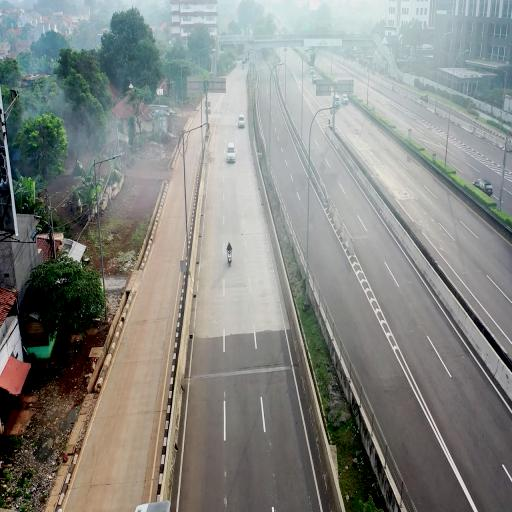vehicle: (225, 145, 236, 165)
